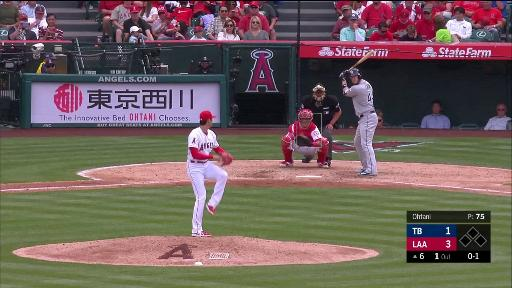pitcher: (187, 110, 235, 237)
